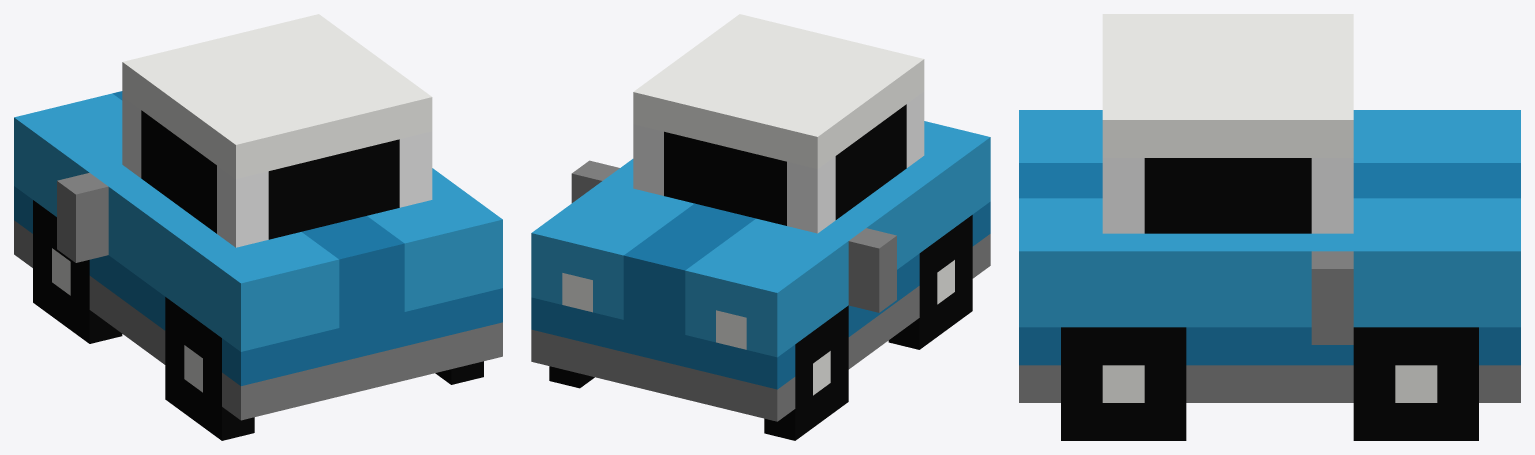
Rendered from Car3.obj.
The picture shows the model from 3 angles, left to right: view 1: azimuth 30°, elevation 25°; view 2: azimuth 150°, elevation 25°; view 3: azimuth 270°, elevation 25°; orthographic projection. The views are drawn at different scales.
Bounding box in the file's own units: 1 × 0.8 × 1.2.
Materials: 1 (1 with a texture image).
